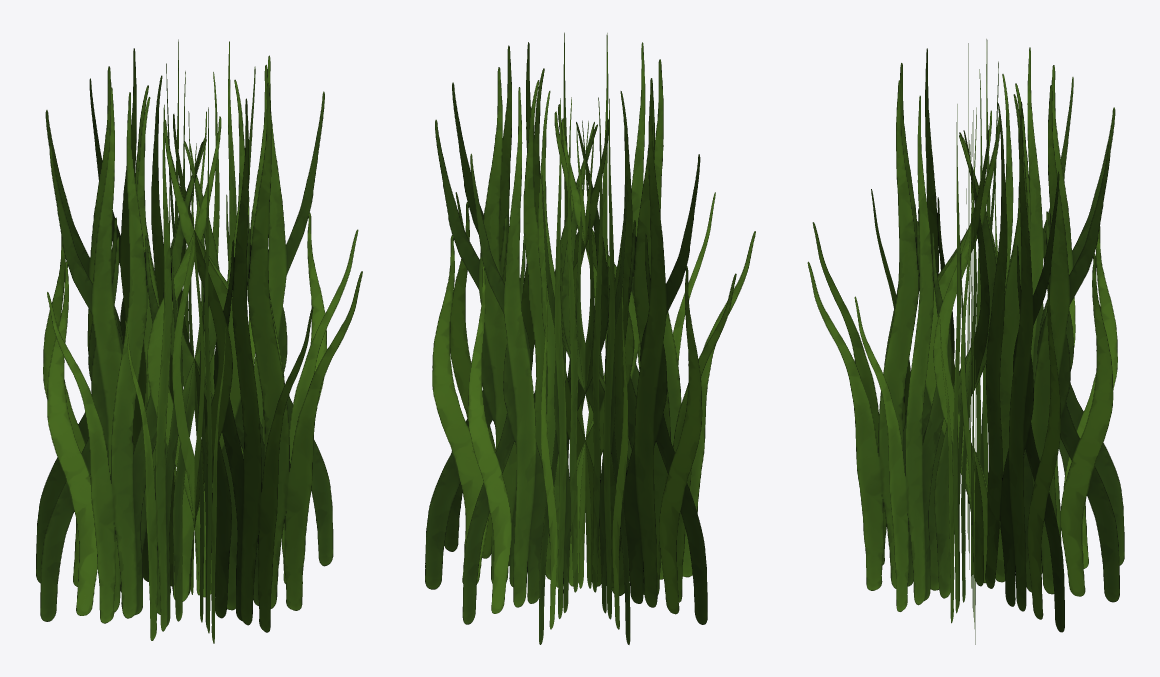
Rendered from grasssmall.fbx.
3 views of the same model, side by side, from view 1: azimuth 30°, elevation 25°; view 2: azimuth 150°, elevation 25°; view 3: azimuth 270°, elevation 25° (orthographic). The views are drawn at different scales.
Visible parts, largest first — view 1: Small_grass7; view 2: Small_grass7; view 3: Small_grass7.
Part boxes in pixels (bbox=[...]): Small_grass7: bbox=[36, 39, 362, 643]; Small_grass7: bbox=[425, 32, 755, 644]; Small_grass7: bbox=[807, 39, 1124, 644].
Size of the model in its own units: 0.2882 by 0.4773 by 0.2807.
